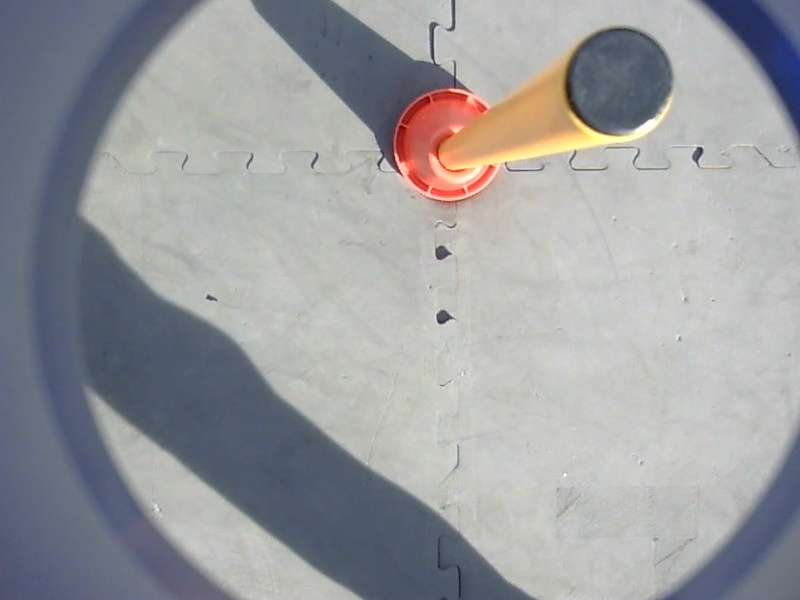tip: (552, 22, 684, 146)
